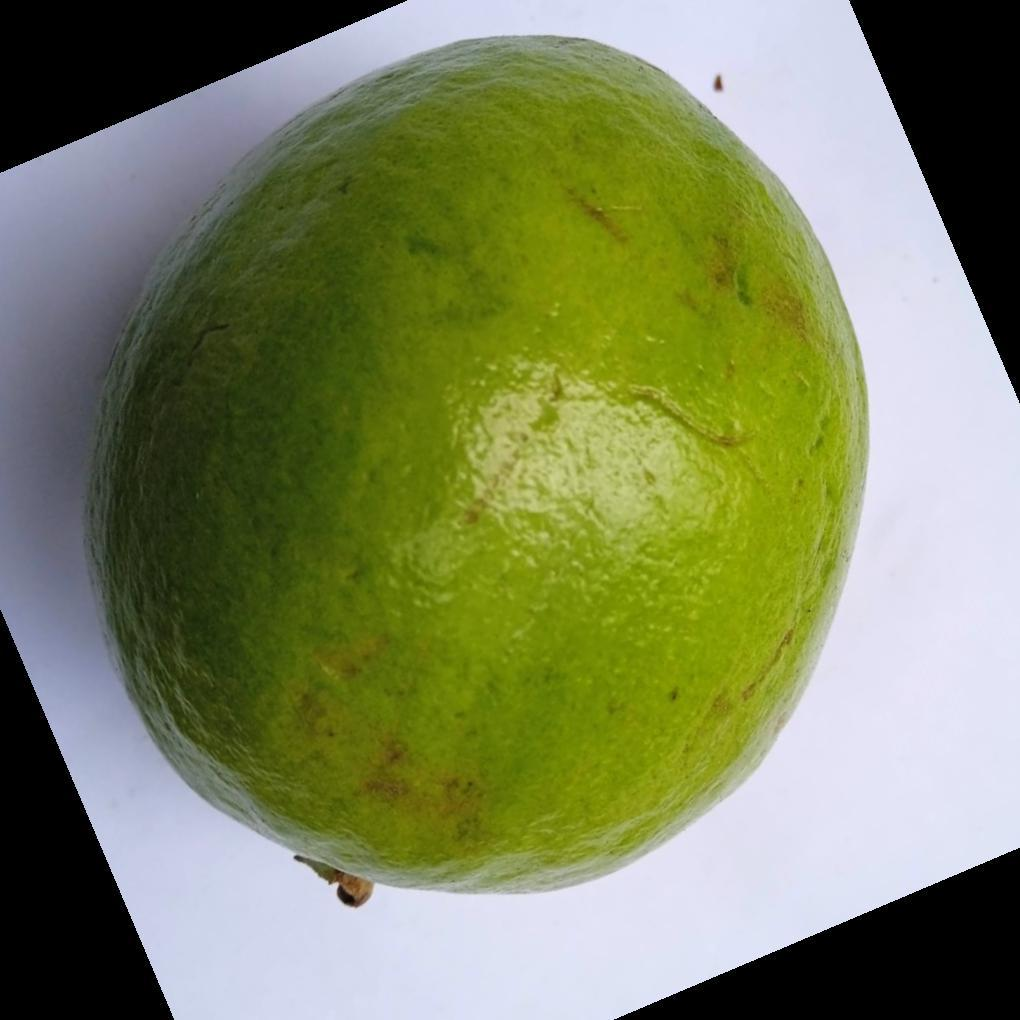FreshGuava: (84, 35, 871, 899)
